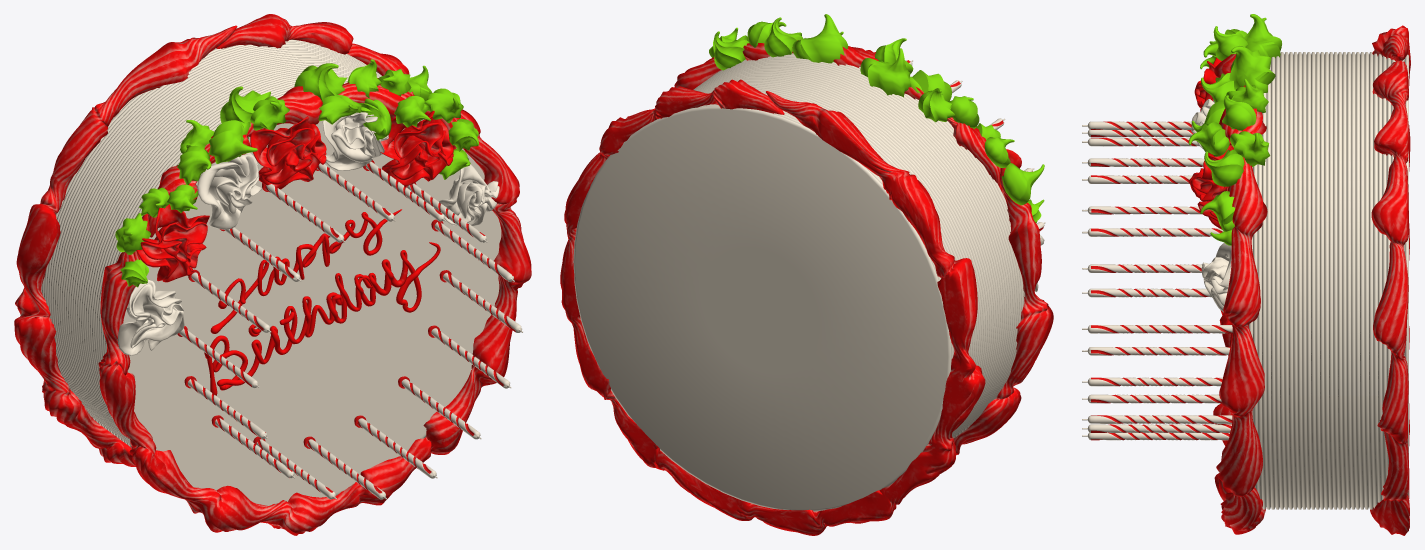
File: Birthday_Cake.obj
3 views of the same model, side by side, from view 1: azimuth 30°, elevation 25°; view 2: azimuth 150°, elevation 25°; view 3: azimuth 270°, elevation 25° (orthographic). The views are drawn at different scales.
Parts seen in each view (by area): view 1: Cake_base01, Red_creme_edges01, Roses01, Flowers01, Inscription01, Candle_14, Candle_06, Candle_03, Candle_13, Candle_04, Candle_16, Candle_11 (+9 smaller); view 2: Cake_base01, Red_creme_edges01, Flowers01; view 3: Cake_base01, Red_creme_edges01, Flowers01, Roses01, Candle_16, Candle_11, Candle_13, Candle_14, Candle_08, Candle_06, Candle_10, Candle_05 (+8 smaller).
Boxes of the visible parts, bbox=[...] form: Cake_base01: bbox=[41, 39, 501, 505]; Red_creme_edges01: bbox=[14, 14, 531, 535]; Roses01: bbox=[117, 110, 499, 355]; Flowers01: bbox=[115, 59, 478, 287]; Inscription01: bbox=[204, 209, 440, 395]; Candle_14: bbox=[439, 270, 522, 332]; Candle_06: bbox=[428, 325, 511, 388]; Candle_03: bbox=[354, 415, 437, 478]; Candle_13: bbox=[398, 376, 481, 439]; Candle_04: bbox=[184, 376, 267, 439]; Candle_16: bbox=[303, 436, 386, 499]; Candle_11: bbox=[211, 415, 294, 478]; Cake_base01: bbox=[573, 53, 1024, 511]; Red_creme_edges01: bbox=[560, 40, 1053, 535]; Flowers01: bbox=[709, 14, 1044, 223]; Cake_base01: bbox=[1249, 52, 1408, 509]; Red_creme_edges01: bbox=[1213, 25, 1410, 535]; Flowers01: bbox=[1188, 14, 1281, 245]; Roses01: bbox=[1188, 57, 1233, 312]; Candle_16: bbox=[1082, 415, 1232, 423]; Candle_11: bbox=[1082, 325, 1232, 333]; Candle_13: bbox=[1082, 424, 1231, 432]; Candle_14: bbox=[1082, 347, 1230, 355]; Candle_08: bbox=[1082, 377, 1222, 386]; Candle_06: bbox=[1082, 394, 1221, 403]; Candle_10: bbox=[1082, 228, 1223, 236]; Candle_05: bbox=[1082, 288, 1211, 297].
Size of the model in its own units: 36.07 by 36.72 by 23.13.
Materials: 2 (2 with a texture image).
